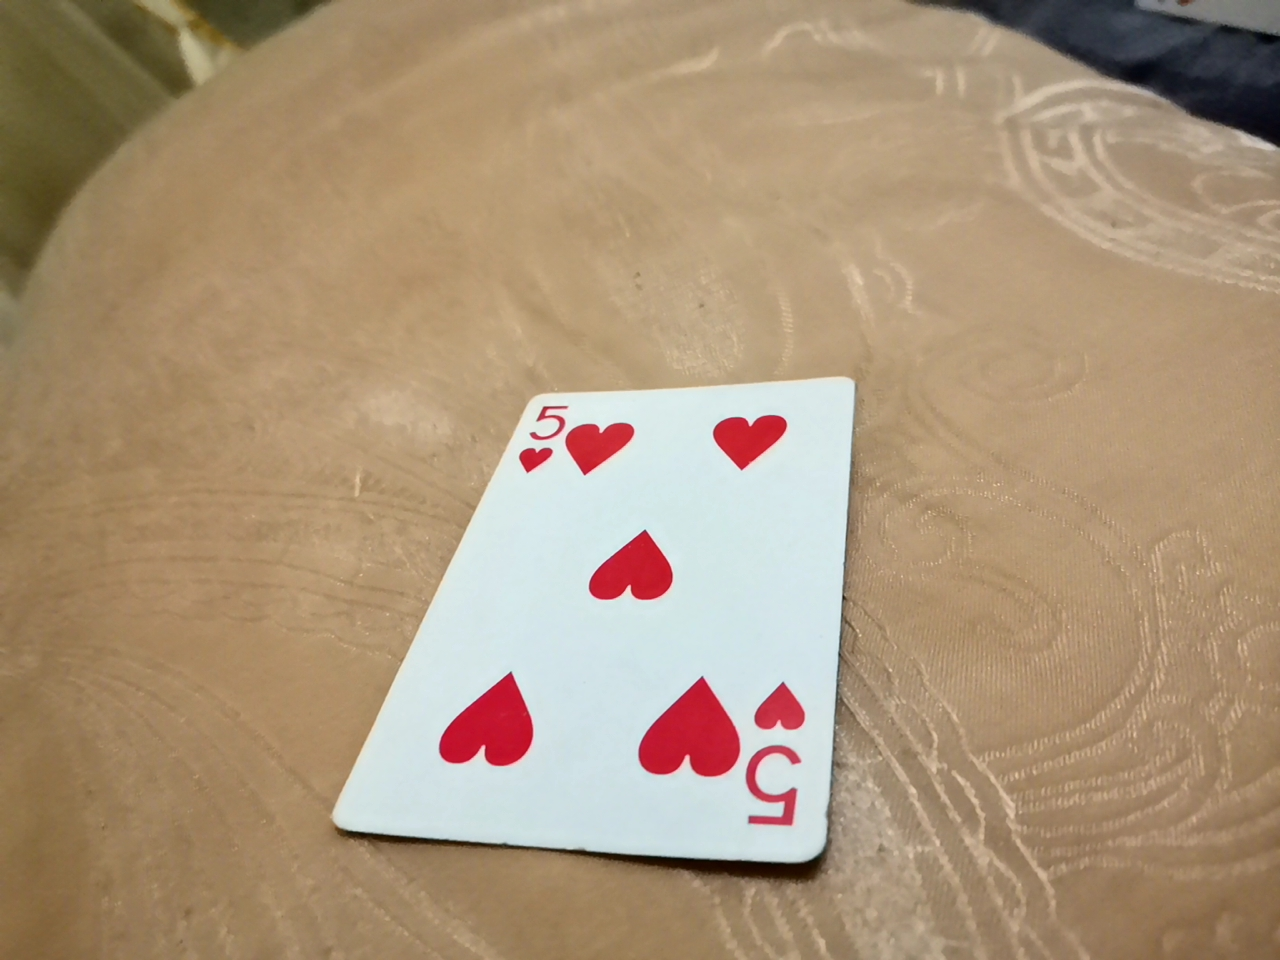hx 5: (330, 360, 850, 889)
